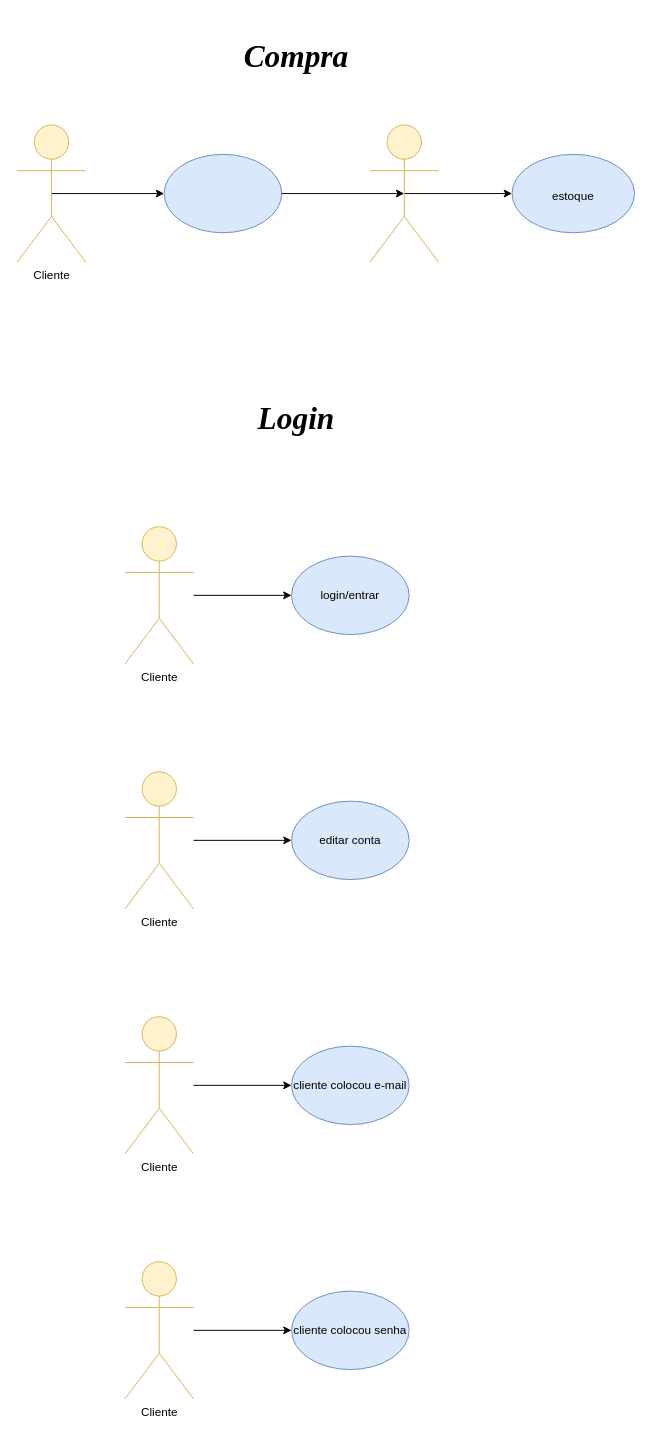
Image size: 652x1436. Some labels were removed from this diagram. Here are the shapes that lost their labels. From the top down, the box of each, then its label:
(163, 153, 282, 233): pedido/compra
(369, 124, 439, 262): Banco de dados
